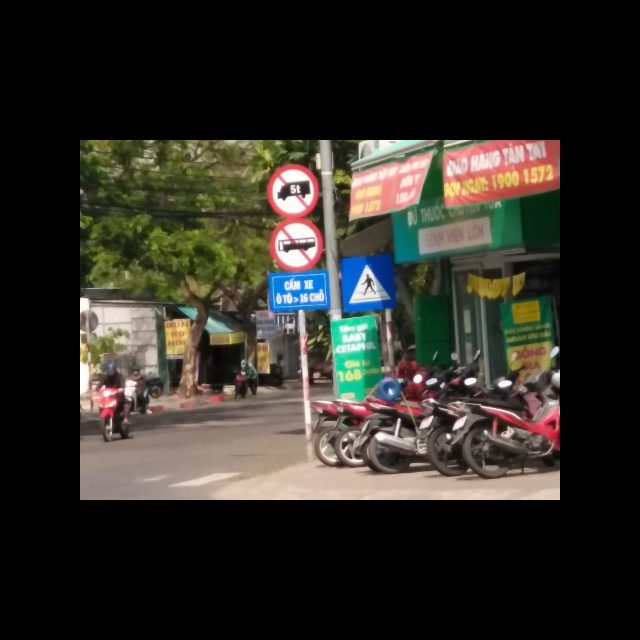Cấm xe tải: (267, 166, 320, 217)
Cấm xe xe khách: (269, 216, 324, 271)
Đường dành cho người đi bộ: (340, 255, 398, 312)
